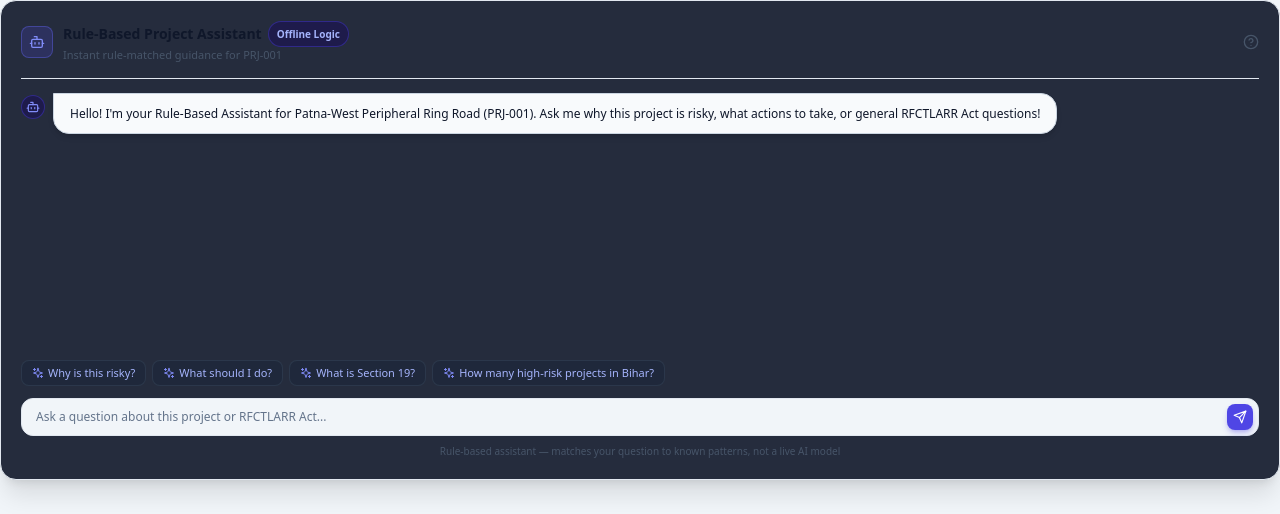
ProjectAssistant.jsx — Rule-Based Project Assistant Component › 2. clicking a suggestion chip sends that question and renders response
This screenshot has width=1280, height=514.
Click the button "Why is this risky?": coordinates (84, 373) [21,360,146,386]
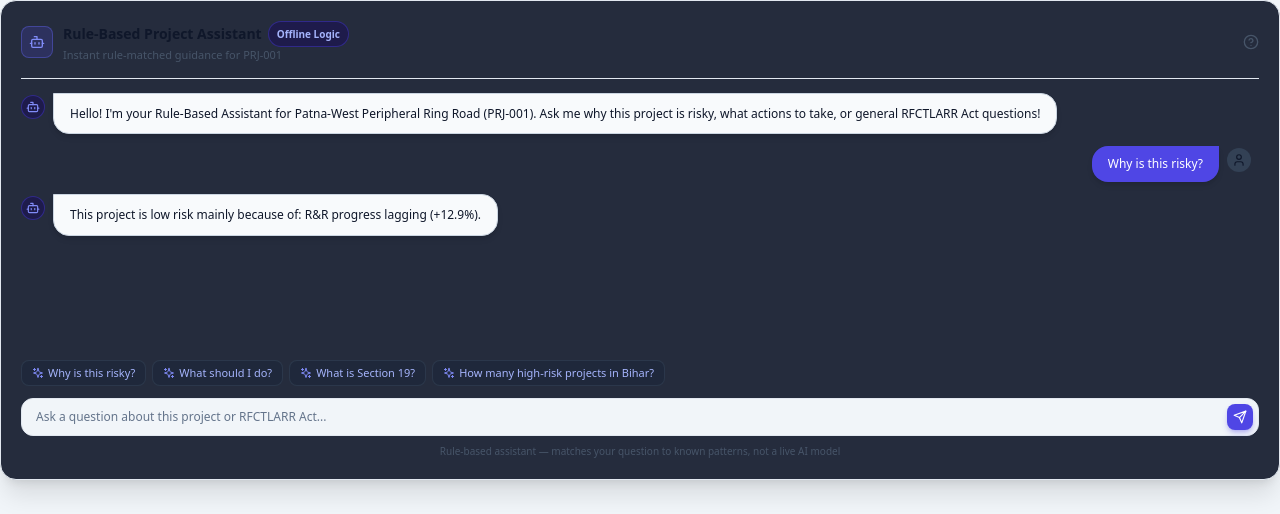
Check: the 1st text "Why is this risky?" is shown, box [1092,146,1219,182]
Check: the text "R&R progress lagging" is shown, box [70,206,481,223]
